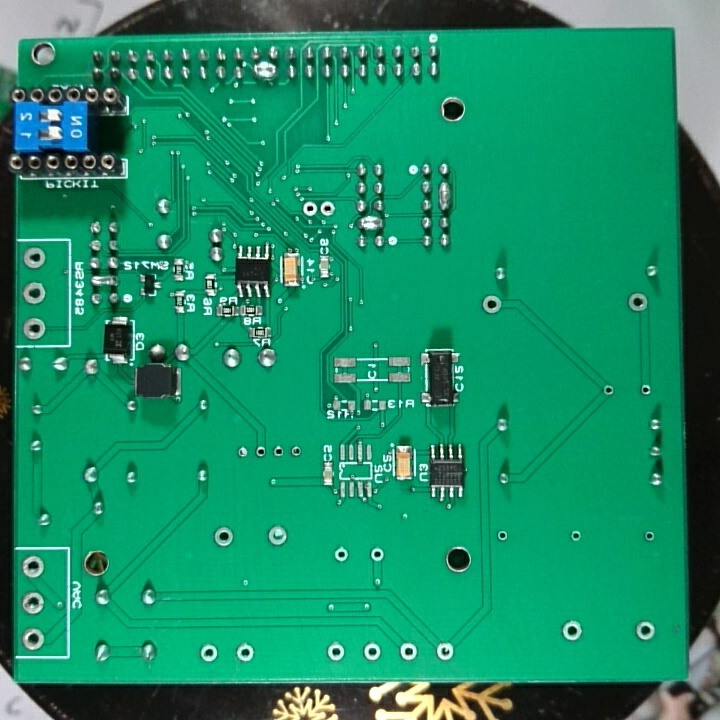F: (19, 624, 48, 652), (18, 589, 48, 616), (263, 523, 292, 549), (211, 523, 237, 552), (20, 245, 48, 271), (22, 279, 48, 307), (18, 555, 47, 580), (559, 618, 586, 644), (21, 314, 47, 340), (479, 293, 505, 318), (625, 289, 649, 316), (234, 641, 257, 667), (633, 620, 656, 645), (396, 639, 419, 663), (325, 640, 347, 665), (432, 640, 455, 663), (361, 640, 383, 664), (197, 643, 219, 666), (319, 196, 337, 220), (233, 442, 251, 463), (368, 544, 385, 566), (331, 545, 350, 564), (301, 198, 319, 218), (251, 442, 268, 463), (494, 527, 513, 544), (568, 526, 583, 547), (600, 382, 617, 400), (288, 442, 303, 462), (270, 441, 285, 461), (641, 529, 658, 546), (637, 381, 652, 399)
P: (250, 58, 281, 80), (435, 179, 455, 211), (354, 213, 387, 232), (89, 272, 119, 289)
